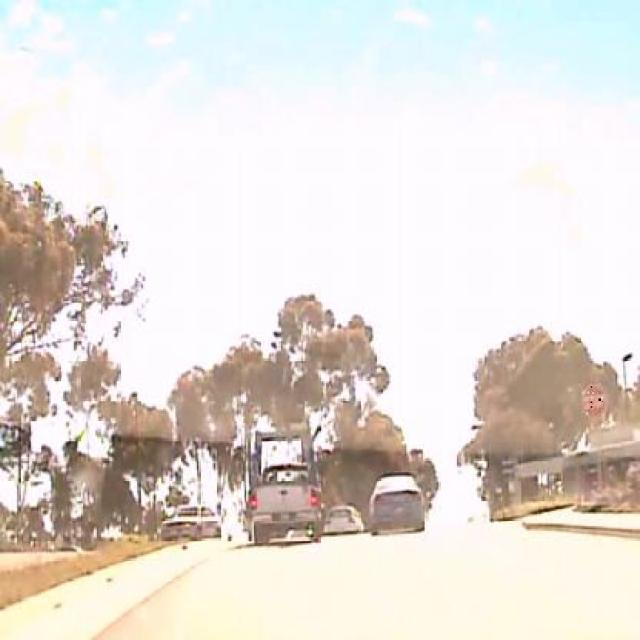stop: (582, 382, 606, 418)
